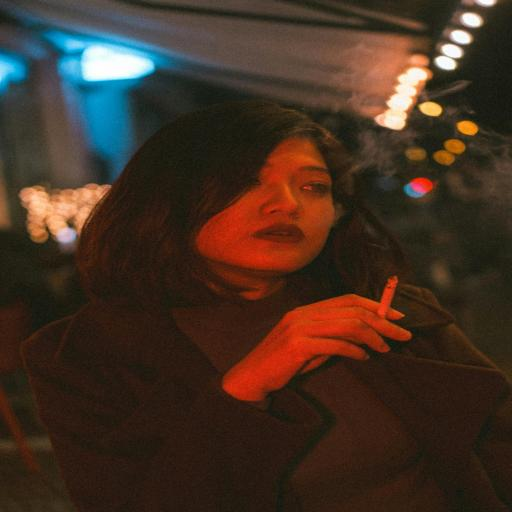terdeteksi pegang rokok: (286, 247, 426, 374)
